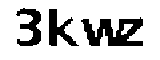3: (11, 8, 45, 49)
k: (45, 5, 81, 51)
w: (81, 13, 123, 53)
z: (121, 17, 154, 50)
